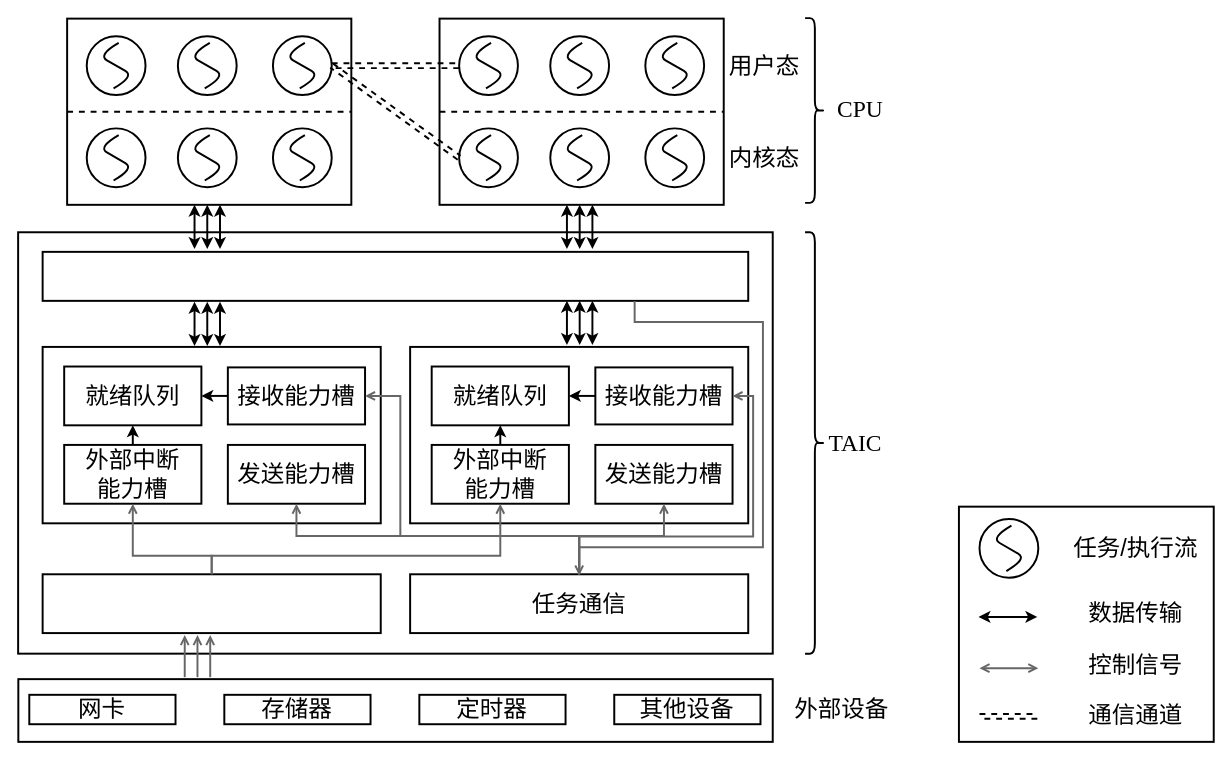
Some shapes in this 1231 by 760 pixel diagram are drawn without their labels. Here are the shapes that lost their labels. From the top down, the box of each, then its label:
(41, 250, 749, 301): 接口
(41, 573, 381, 634): 中断处理
